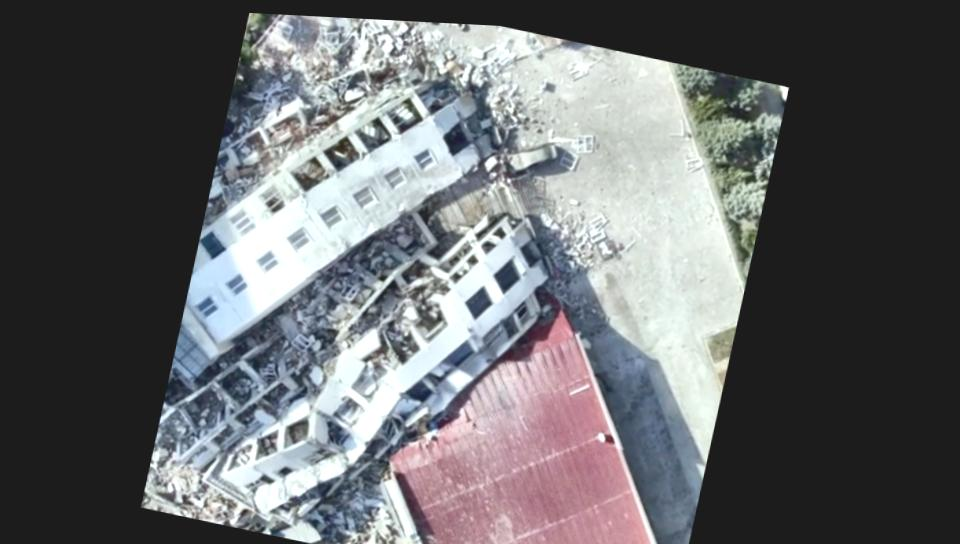kapali: (139, 268, 289, 539)
